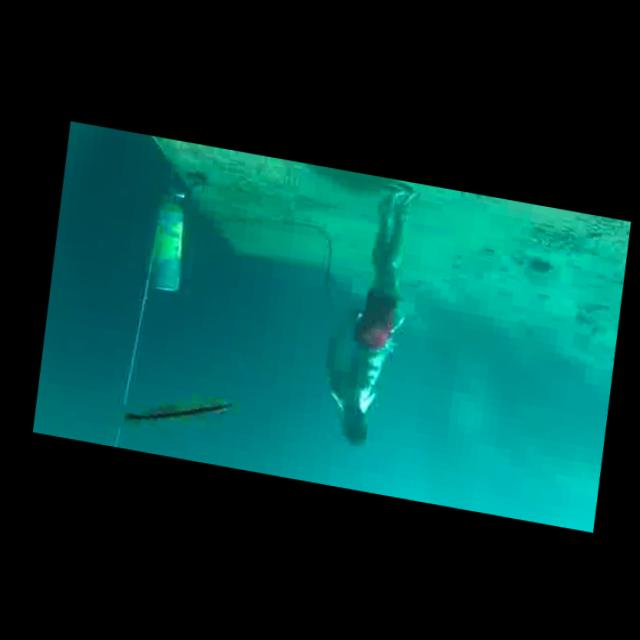human: (303, 169, 428, 455)
